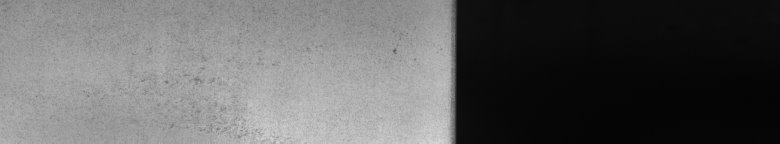ib: (137, 67, 259, 136)
